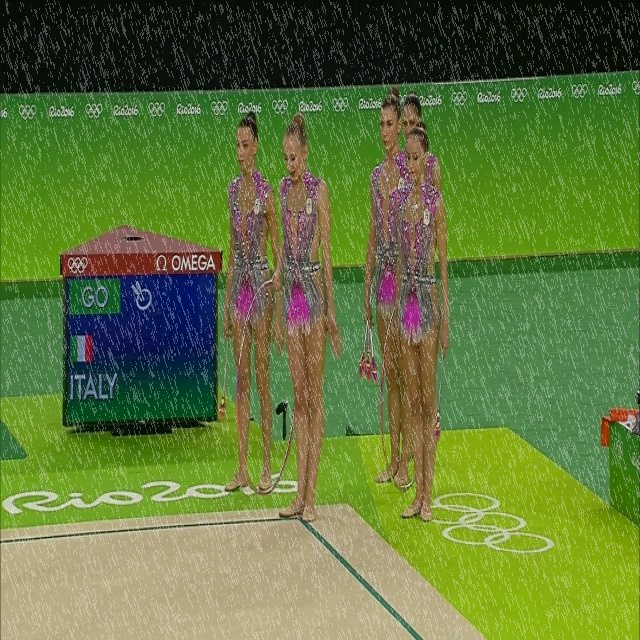pessoa: (268, 108, 344, 530), (217, 104, 287, 501), (392, 120, 452, 524), (357, 84, 414, 488), (393, 90, 443, 238)
